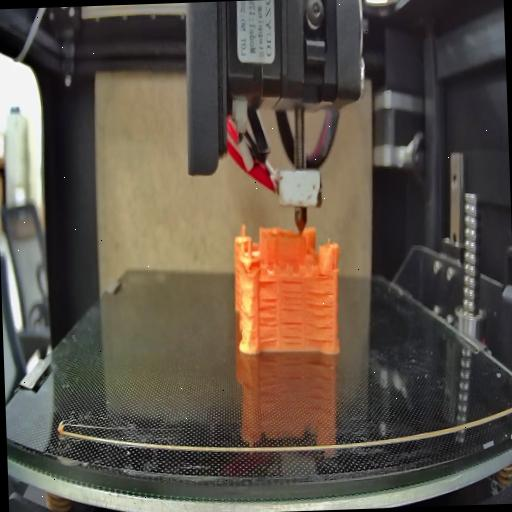cracks: (304, 288, 336, 344), (279, 280, 304, 346), (256, 294, 278, 345), (256, 276, 278, 290)
